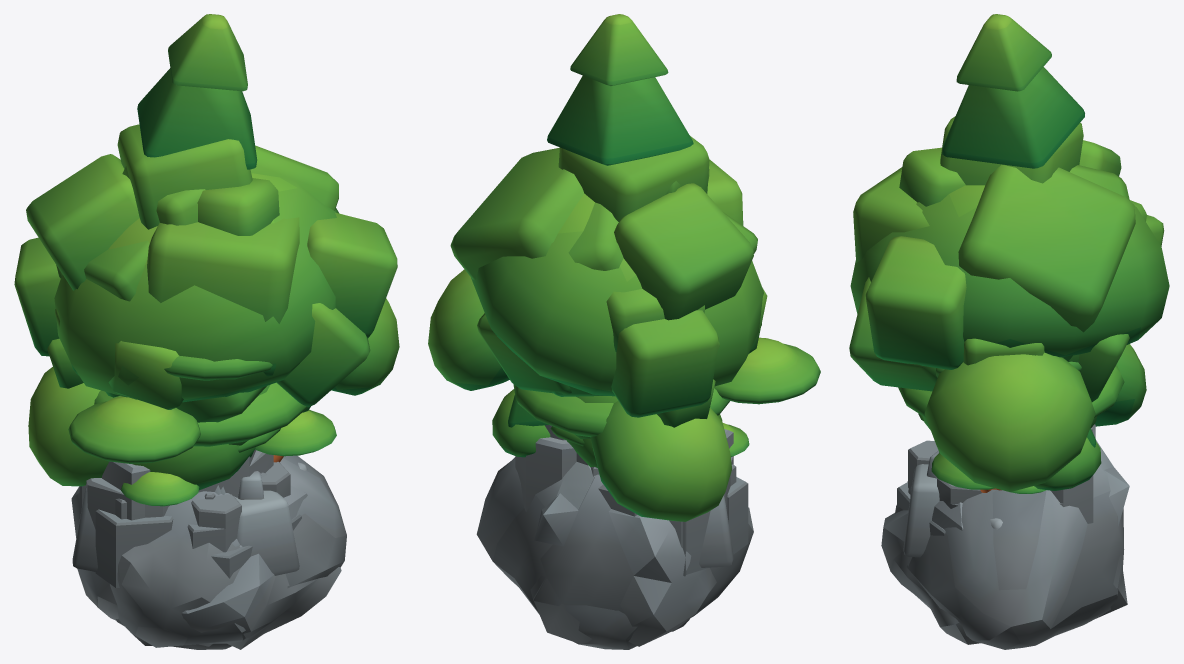
The model's file is kit-b.glb.
3 renders of one model, left to right at view 1: azimuth 30°, elevation 25°; view 2: azimuth 150°, elevation 25°; view 3: azimuth 270°, elevation 25°, orthographic. The views are drawn at different scales.
Parts seen in each view (by area): view 1: Tree_2_E_Color1, Tree_1_C_Color1, Rock_3_R_Color1, Tree_4_C_Color1, Tree_3_C_Color1, Rock_3_Q_Color1, Rock_1_J_Color1, Tree_3_B_Color1, Rock_2_E_Color1, Tree_2_D_Color1, Rock_1_M_Color1, Tree_1_A_Color1 (+3 smaller); view 2: Tree_2_E_Color1, Tree_1_C_Color1, Rock_3_Q_Color1, Tree_4_C_Color1, Rock_3_R_Color1, Tree_3_C_Color1, Rock_1_M_Color1, Tree_3_B_Color1, Tree_2_D_Color1, Tree_1_B_Color1, Rock_2_F_Color1, Rock_1_J_Color1 (+1 smaller); view 3: Tree_2_E_Color1, Tree_1_C_Color1, Rock_3_R_Color1, Tree_4_C_Color1, Rock_3_Q_Color1, Rock_2_E_Color1, Tree_1_B_Color1, Tree_3_B_Color1, Tree_3_C_Color1, Rock_1_M_Color1, Rock_1_J_Color1, Tree_2_D_Color1 (+1 smaller).
Boxes of the visible parts, <box> form: Tree_2_E_Color1: <box>14,124,397,422</box>; Tree_1_C_Color1: <box>28,173,399,486</box>; Rock_3_R_Color1: <box>110,455,346,647</box>; Tree_4_C_Color1: <box>122,14,257,178</box>; Tree_3_C_Color1: <box>68,355,336,463</box>; Rock_3_Q_Color1: <box>71,472,341,649</box>; Rock_1_J_Color1: <box>82,461,252,578</box>; Tree_3_B_Color1: <box>94,382,306,506</box>; Rock_2_E_Color1: <box>236,471,299,575</box>; Tree_2_D_Color1: <box>56,189,205,373</box>; Rock_1_M_Color1: <box>79,486,173,587</box>; Tree_1_A_Color1: <box>132,444,255,490</box>; Tree_2_E_Color1: <box>450,136,767,417</box>; Tree_1_C_Color1: <box>428,193,763,521</box>; Rock_3_Q_Color1: <box>530,474,716,646</box>; Tree_4_C_Color1: <box>508,14,693,427</box>; Rock_3_R_Color1: <box>476,457,753,649</box>; Tree_3_C_Color1: <box>714,337,820,404</box>; Rock_1_M_Color1: <box>515,425,748,576</box>; Tree_3_B_Color1: <box>513,384,749,456</box>; Tree_2_D_Color1: <box>552,169,757,396</box>; Tree_1_B_Color1: <box>492,389,618,457</box>; Rock_2_F_Color1: <box>699,496,733,567</box>; Rock_1_J_Color1: <box>669,429,733,574</box>; Tree_2_E_Color1: <box>849,116,1164,402</box>; Tree_1_C_Color1: <box>850,185,1169,491</box>; Rock_3_R_Color1: <box>895,441,1123,649</box>; Tree_4_C_Color1: <box>942,14,1095,447</box>; Rock_3_Q_Color1: <box>881,440,1129,644</box>; Rock_2_E_Color1: <box>903,451,939,557</box>; Tree_1_B_Color1: <box>1034,437,1101,490</box>; Tree_3_B_Color1: <box>898,364,1124,421</box>; Tree_3_C_Color1: <box>931,361,1081,493</box>; Rock_1_M_Color1: <box>1051,431,1093,523</box>; Rock_1_J_Color1: <box>897,440,938,510</box>; Tree_2_D_Color1: <box>936,165,1129,377</box>.
Bounding box in the file's own units: 7.18 × 12.16 × 5.77.
1 material, 1 textured.
